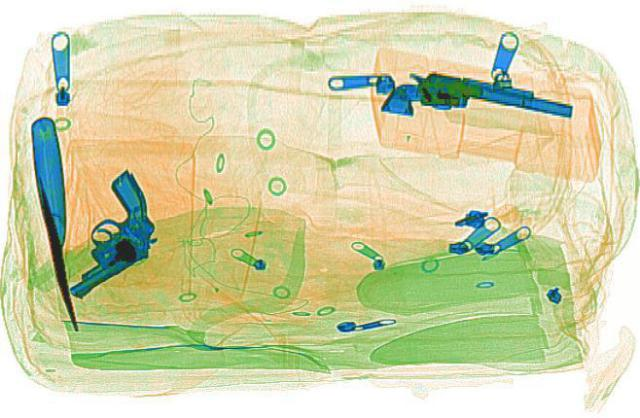Gun: (0, 168, 212, 292), (378, 63, 580, 144)
Knife: (26, 114, 80, 329)
